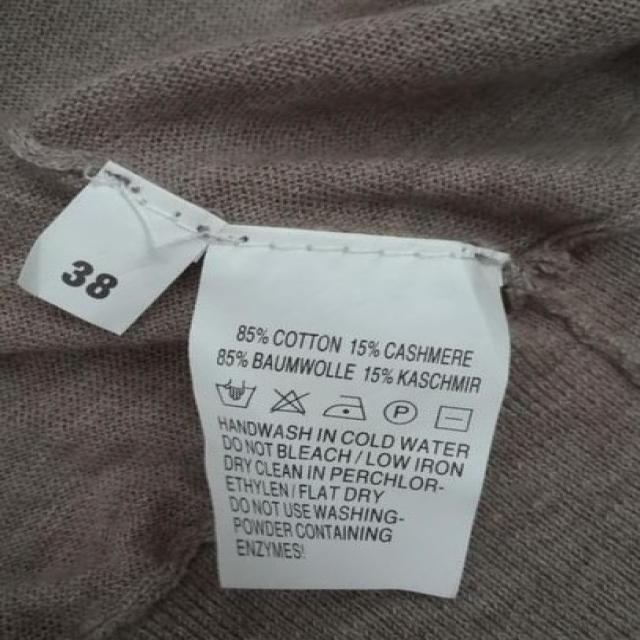DN_bleach: (271, 385, 313, 416)
dry_clean_any_solvent_except_trichloroethylene: (382, 396, 425, 425)
dry_flat: (434, 402, 475, 433)
hand_wash: (216, 376, 261, 410)
iron_low: (326, 392, 368, 421)
